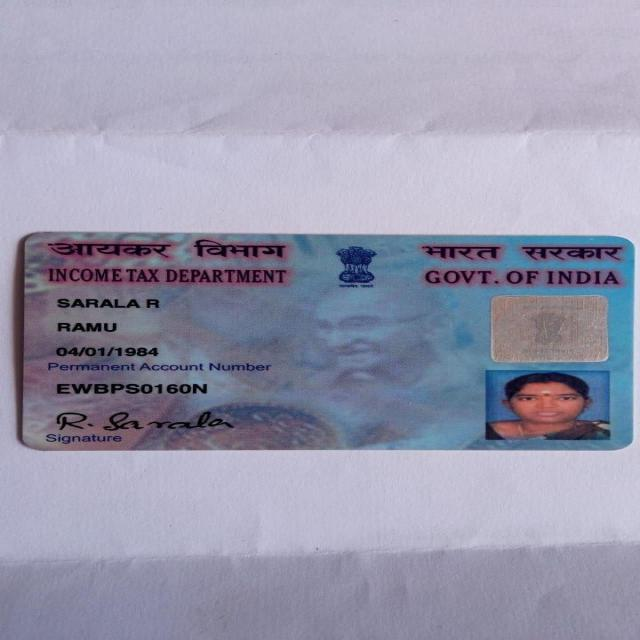pan_card: (15, 230, 634, 452)
